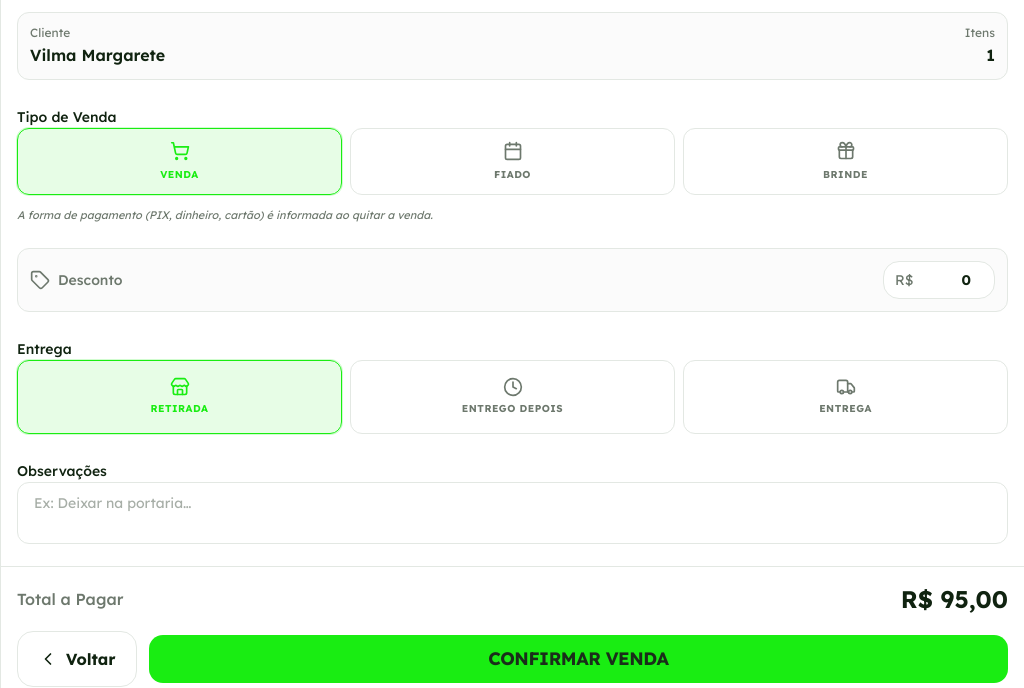
Test: CheckoutSidebar — entrega com data prevista exige a forma de pagamento › sem forma escolhida, CONFIRMAR fica bloqueado
Click the button "Entrega": (846, 396) [683,360,1008,434]
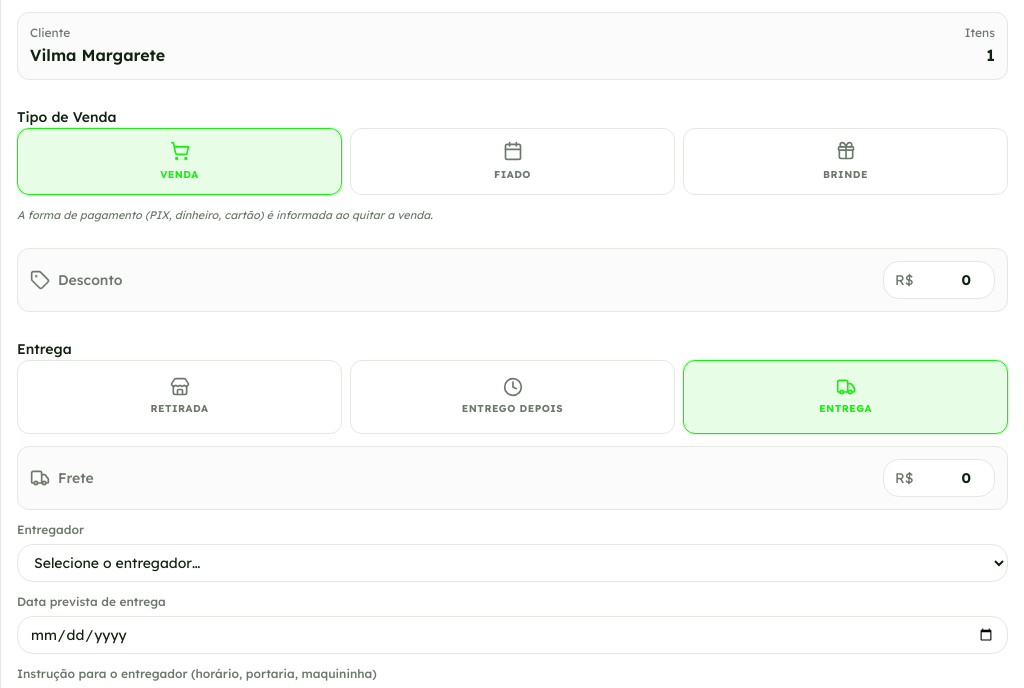
In the date field labelled "Data prevista de entrega": (512, 634) [17,616,1008,654], type "2026-10-20"
(page scrolled)
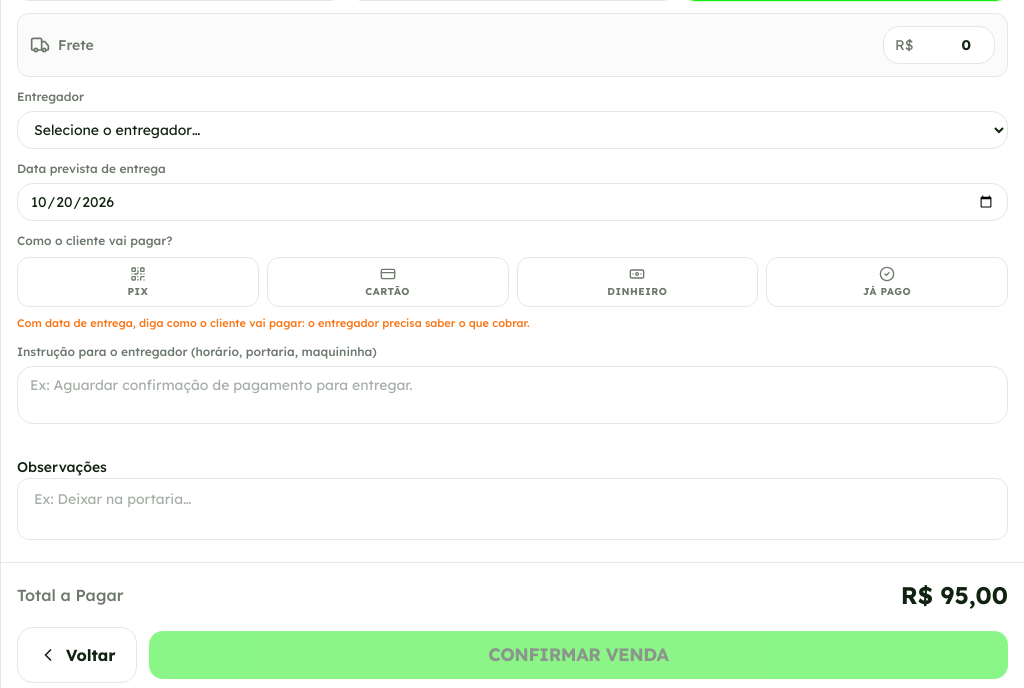
Expected: the button "CONFIRMAR VENDA" is disabled, [149,630,1008,678]
